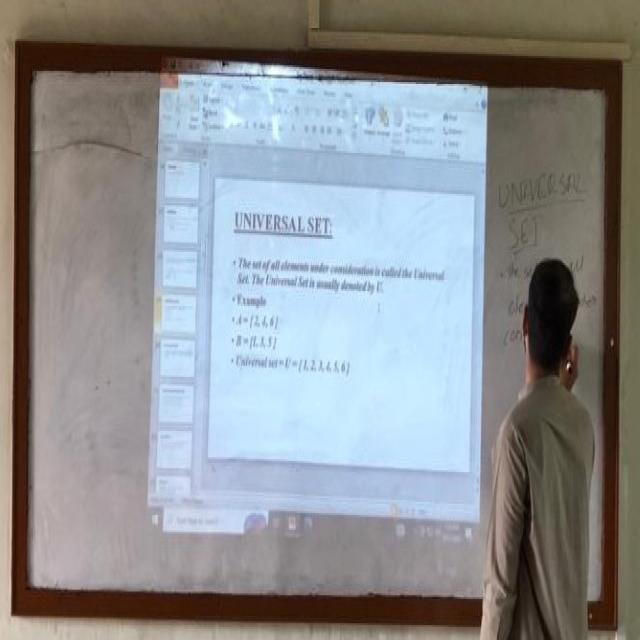Slide: (142, 52, 492, 551)
White-board: (18, 48, 615, 621)
